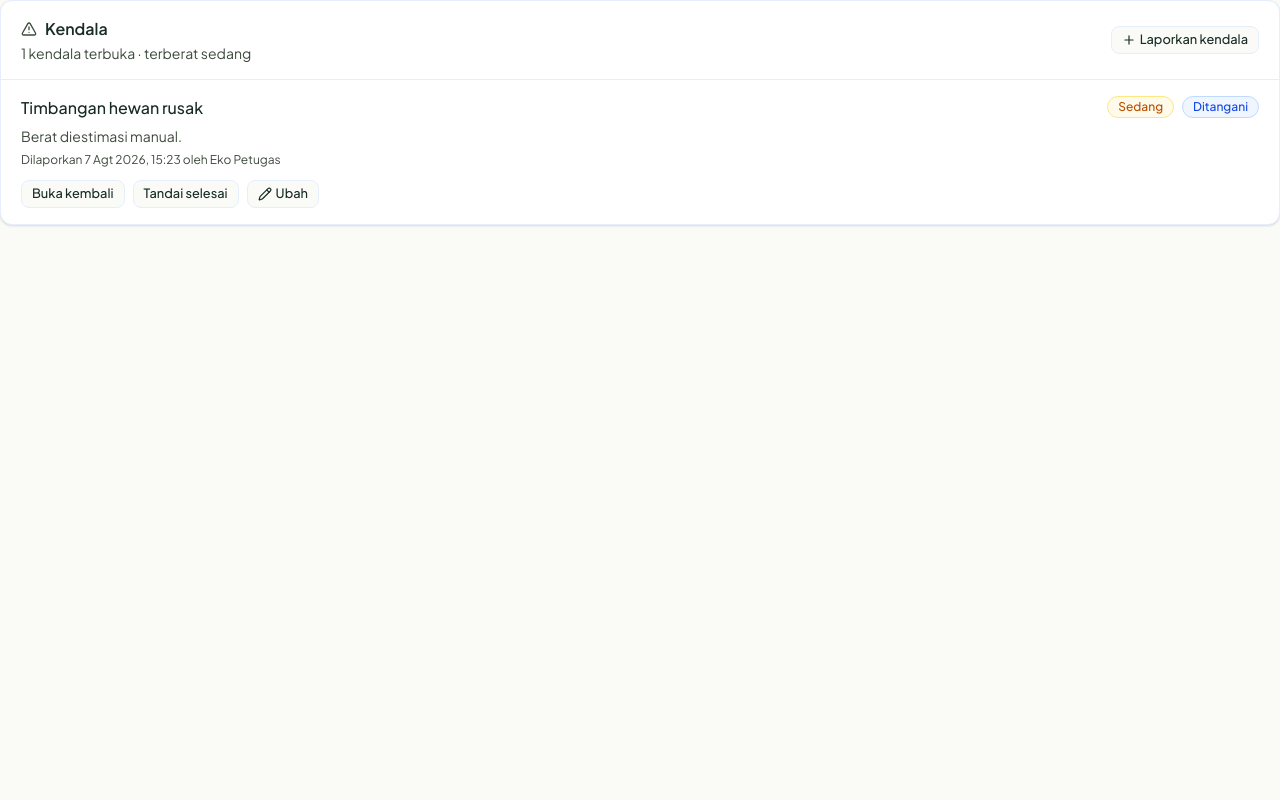
Test: IssueDialog — ubah kendala › terisi lebih dulu dengan data yang tersimpan
Click the button "Ubah": (283, 194) [247,180,319,208]
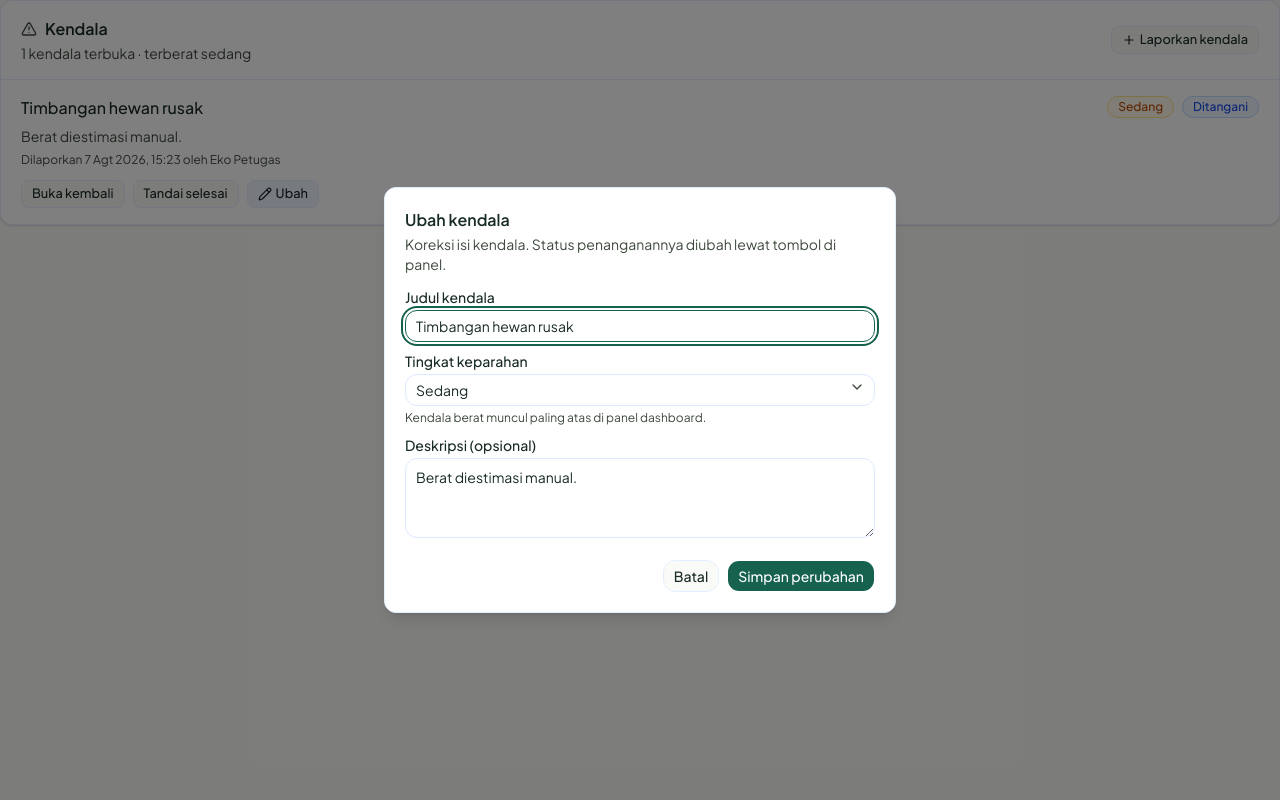
Now the field with id "issue-issue-1-title" holds "Timbangan hewan rusak", box [405,310,875,342]
